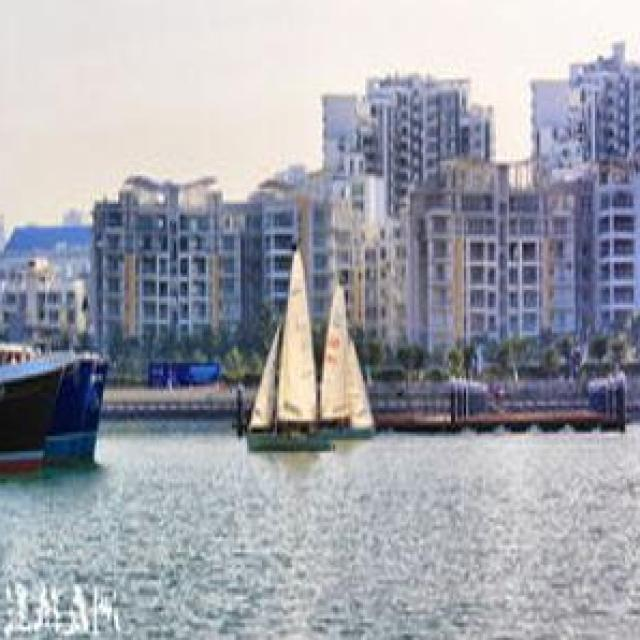sailboat: (245, 237, 327, 452), (320, 269, 378, 443)
